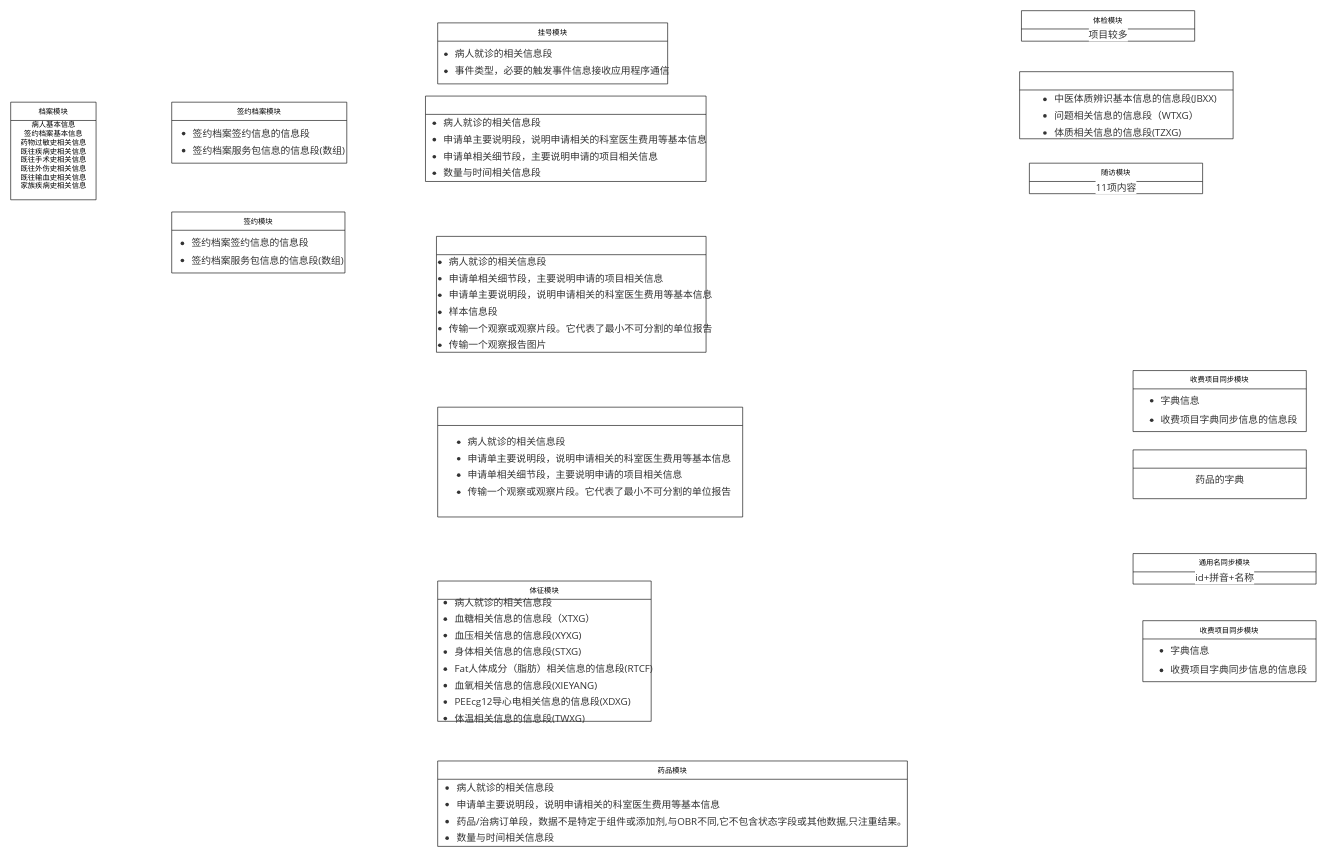
Image size: 1327x862. Some labels were removed from this diagram. The shapes that lost their labels are listed below. From the top down, each one's box as (x1, y1, x2, y2) in pixels, then its label:
(1019, 71, 1233, 139): 中医体制辨别
(425, 95, 706, 181): 检验申请模块
(436, 236, 706, 352): 检验模块
(437, 407, 743, 517): 检验检查报告
(1132, 449, 1306, 499): 药品同步
